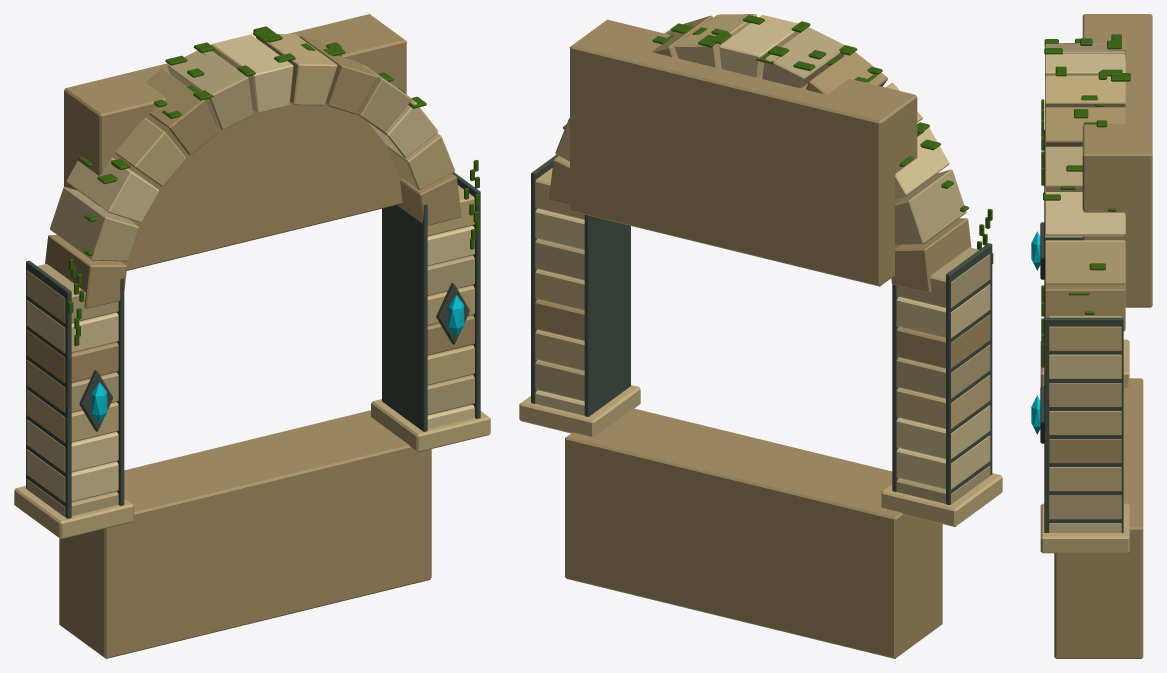
The model's file is gate_frame.obj.
3 views of the same model, side by side, from view 1: azimuth 30°, elevation 25°; view 2: azimuth 150°, elevation 25°; view 3: azimuth 270°, elevation 25° (orthographic). The views are drawn at different scales.
Parts seen in each view (by area): view 1: Lower_Stone_Housing, Upper_Stone_Housing, Stone_Guide_Channel.002, Arch_Voussoir_11, Arch_Voussoir_07, Stone_Guide_Channel.001, Arch_Voussoir_06, Arch_Voussoir_08, Arch_Voussoir_10, Arch_Voussoir_12, Arch_Voussoir_05, Pier_Foot (+27 smaller); view 2: Lower_Stone_Housing, Upper_Stone_Housing, Stone_Guide_Channel.002, Stone_Guide_Channel.001, Arch_Voussoir_11, Arch_Voussoir_12, Pier_Foot, Arch_Voussoir_06, Pier_Foot.001, Arch_Voussoir_07, Frame_Pier_Block.004, Frame_Pier_Block.005 (+20 smaller); view 3: Upper_Stone_Housing, Lower_Stone_Housing, Stone_Guide_Channel.003, Arch_Voussoir_01, Arch_Voussoir_02, Arch_Voussoir_00, Arch_Voussoir_05, Pier_Foot.001, Arch_Voussoir_04, Frame_Pier_Block.015, Frame_Pier_Block.009, Frame_Pier_Block.010 (+14 smaller).
Part boxes in pixels (box(x1,y1,x2,y2)): Lower_Stone_Housing: box(59, 410, 431, 658); Upper_Stone_Housing: box(64, 14, 406, 270); Stone_Guide_Channel.002: box(382, 204, 427, 431); Arch_Voussoir_11: box(50, 187, 139, 261); Arch_Voussoir_07: box(167, 50, 253, 129); Stone_Guide_Channel.001: box(26, 260, 71, 518); Arch_Voussoir_06: box(211, 34, 293, 112); Arch_Voussoir_08: box(145, 69, 217, 154); Arch_Voussoir_10: box(66, 158, 159, 222); Arch_Voussoir_12: box(45, 235, 126, 308); Arch_Voussoir_05: box(256, 34, 337, 105); Pier_Foot: box(14, 486, 133, 539); Lower_Stone_Housing: box(565, 408, 942, 658); Upper_Stone_Housing: box(570, 19, 917, 286); Stone_Guide_Channel.002: box(584, 215, 630, 416); Stone_Guide_Channel.001: box(946, 243, 992, 504); Arch_Voussoir_11: box(895, 169, 966, 244); Arch_Voussoir_12: box(891, 218, 971, 292); Pier_Foot: box(881, 473, 1002, 526); Arch_Voussoir_06: box(719, 15, 799, 77); Pier_Foot.001: box(519, 385, 640, 436); Arch_Voussoir_07: box(762, 27, 844, 88); Frame_Pier_Block.004: box(896, 344, 990, 398); Frame_Pier_Block.005: box(896, 314, 990, 368); Upper_Stone_Housing: box(1082, 14, 1152, 307); Lower_Stone_Housing: box(1054, 378, 1143, 658); Stone_Guide_Channel.003: box(1044, 317, 1123, 532); Arch_Voussoir_01: box(1045, 240, 1125, 284); Arch_Voussoir_02: box(1045, 192, 1125, 237); Arch_Voussoir_00: box(1045, 283, 1125, 331); Arch_Voussoir_05: box(1045, 75, 1125, 107); Pier_Foot.001: box(1040, 503, 1129, 553); Arch_Voussoir_04: box(1045, 107, 1125, 146); Frame_Pier_Block.015: box(1048, 316, 1122, 350); Frame_Pier_Block.009: box(1049, 495, 1121, 519); Frame_Pier_Block.010: box(1049, 467, 1121, 491).
Size of the model in its own units: 17.4 by 21.54 by 4.5.
